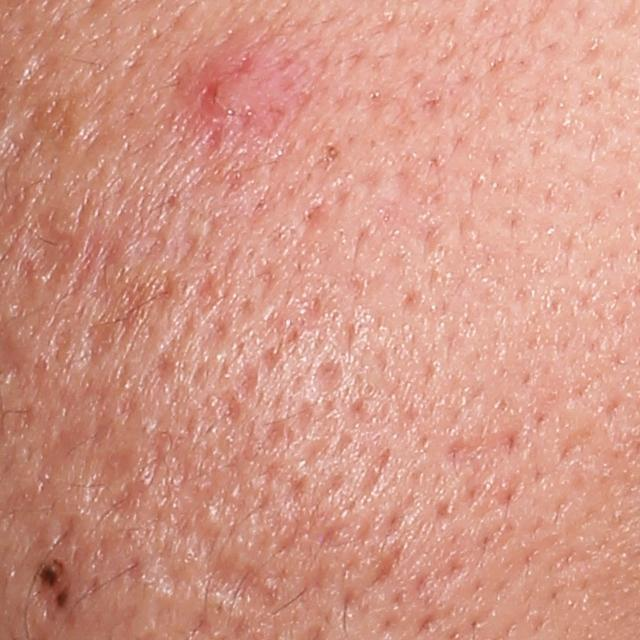atrophic_scar: (61, 233, 173, 369), (103, 427, 170, 525), (13, 205, 81, 295), (82, 448, 141, 502), (139, 340, 176, 414), (147, 548, 199, 598), (35, 426, 82, 471), (305, 359, 347, 399)
nevus: (30, 557, 76, 628)
